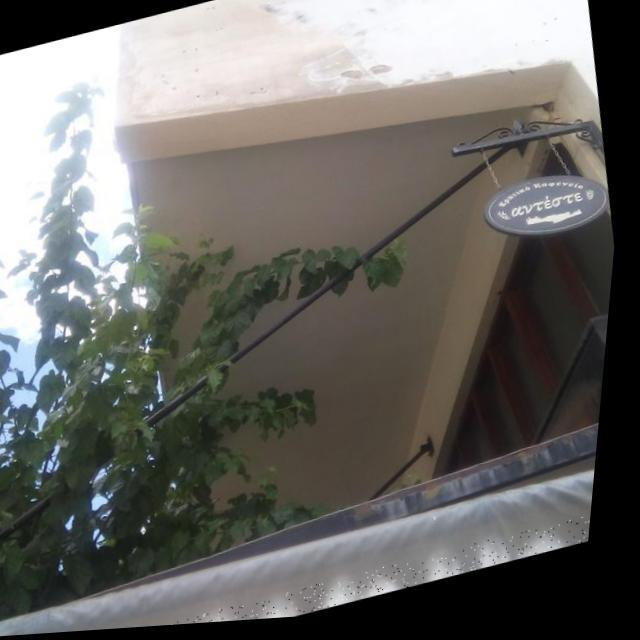-: (138, 520, 602, 630)
